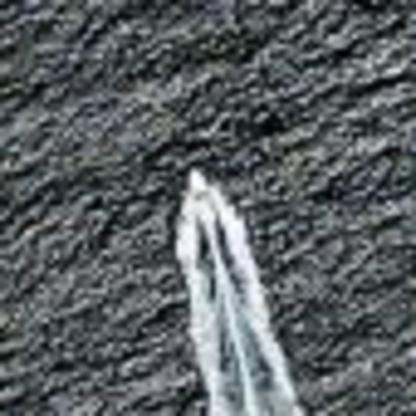ship: (180, 159, 217, 205)
